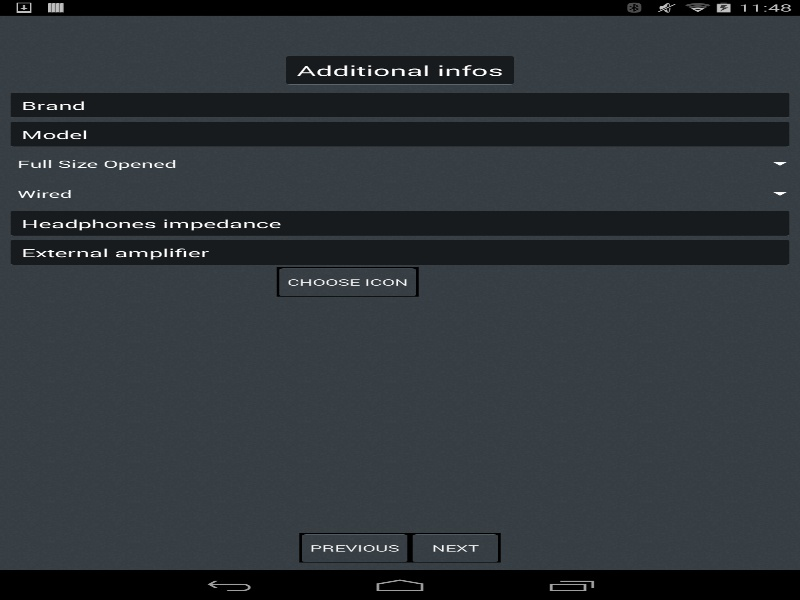Button: (276, 267, 418, 297), (299, 533, 409, 563), (409, 533, 500, 563)
Input: (10, 92, 789, 118), (10, 121, 789, 147), (10, 210, 789, 236), (10, 240, 789, 265)
